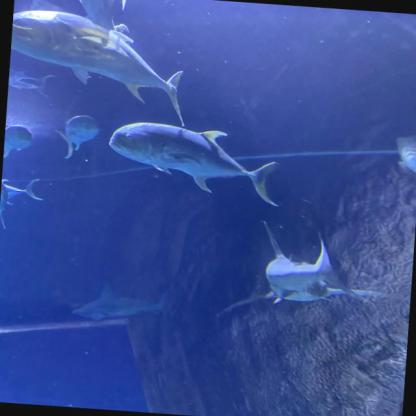fish: (6, 9, 194, 127), (104, 119, 284, 207), (52, 112, 101, 162), (71, 0, 129, 34), (7, 66, 56, 98), (0, 178, 45, 209), (392, 135, 415, 190), (3, 124, 35, 160), (0, 180, 12, 232)
shark: (214, 218, 400, 333), (70, 280, 171, 326)
